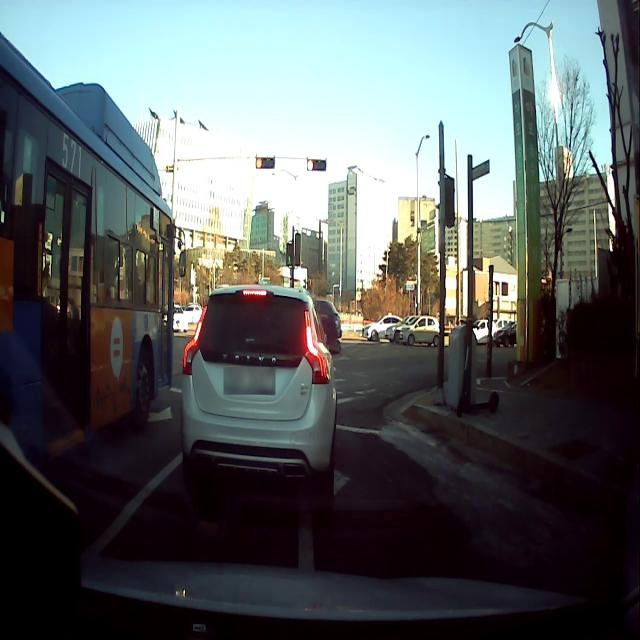Red Light: (306, 158, 314, 172), (255, 156, 262, 170)
